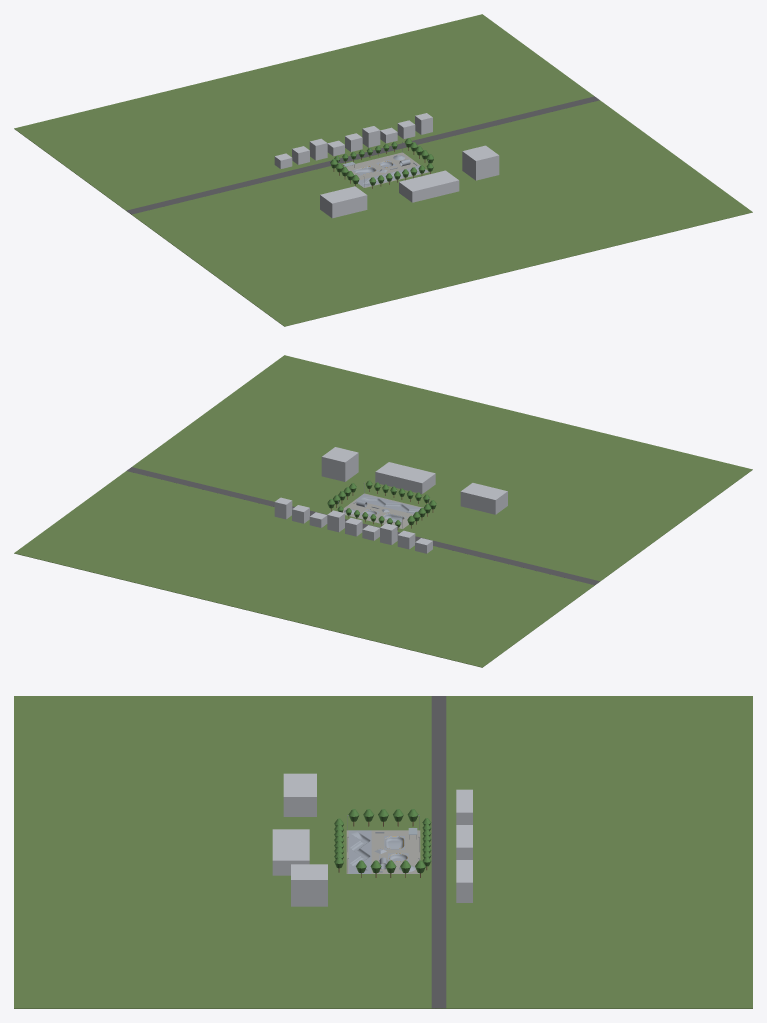
The model's file is skate_park_b.glb.
The picture shows the model from 3 angles, top to bottom: view 1: azimuth 30°, elevation 25°; view 2: azimuth 150°, elevation 25°; view 3: azimuth 270°, elevation 25°; orthographic projection. The views are drawn at different scales.
Visible parts, largest first — view 1: far_ground, far_ground_003, far_ground_001, far_ground_002, street, block_001, block, block_002; view 2: far_ground_003, far_ground, far_ground_001, far_ground_002, street, block_001, block, block_002; view 3: far_ground, far_ground_003, far_ground_002, far_ground_001, street, block_002, block_001, block, snake_run.
Boxes of the visible parts, box(x1,y1,x2,y2) form: far_ground: box(163, 123, 752, 326); far_ground_003: box(14, 14, 603, 217); far_ground_001: box(136, 168, 363, 237); far_ground_002: box(403, 103, 630, 171); street: box(126, 96, 599, 214); block_001: box(399, 170, 459, 202); block: box(320, 186, 367, 218); block_002: box(462, 145, 499, 180); far_ground_003: box(14, 464, 603, 667); far_ground: box(163, 355, 752, 558); far_ground_001: box(403, 509, 630, 578); far_ground_002: box(136, 444, 363, 511); street: box(126, 467, 599, 585); block_001: box(375, 462, 435, 493); block: box(460, 483, 507, 514); block_002: box(321, 447, 358, 481); far_ground: box(14, 696, 346, 1008); far_ground_003: box(420, 696, 752, 1008); far_ground_002: box(346, 874, 420, 1008); far_ground_001: box(346, 696, 420, 830); street: box(431, 696, 446, 1008); block_002: box(291, 864, 327, 906); block_001: box(272, 829, 309, 875); block: box(283, 773, 316, 816); snake_run: box(348, 830, 371, 873).
Size of the model in its own units: 400 by 19.2 by 400.
